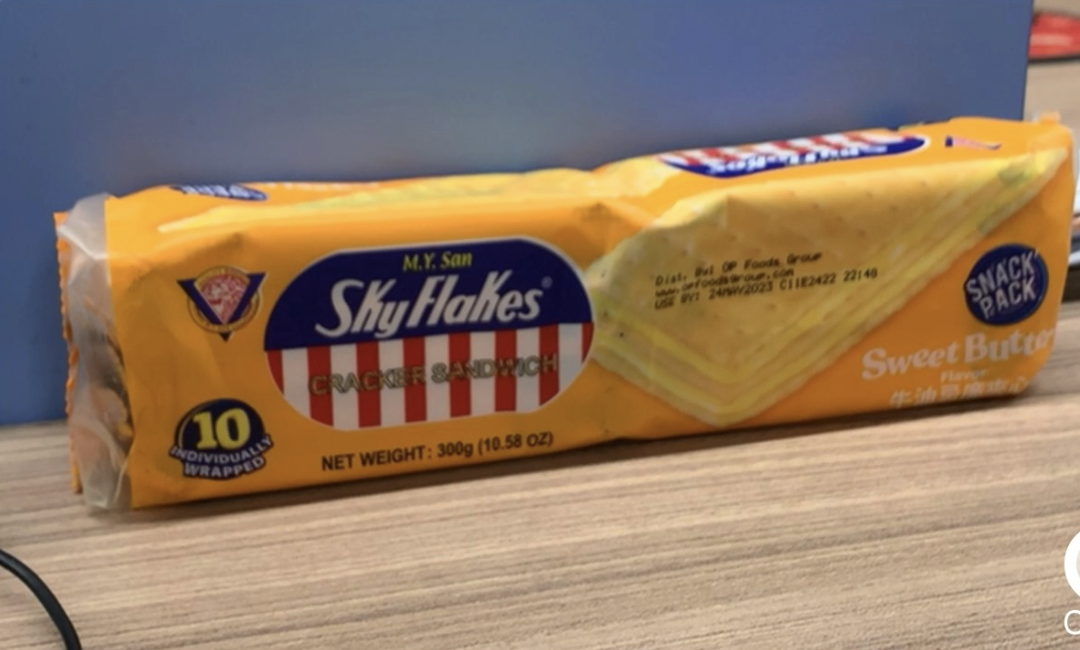crackers_300g-399g: (142, 196, 1052, 458)
